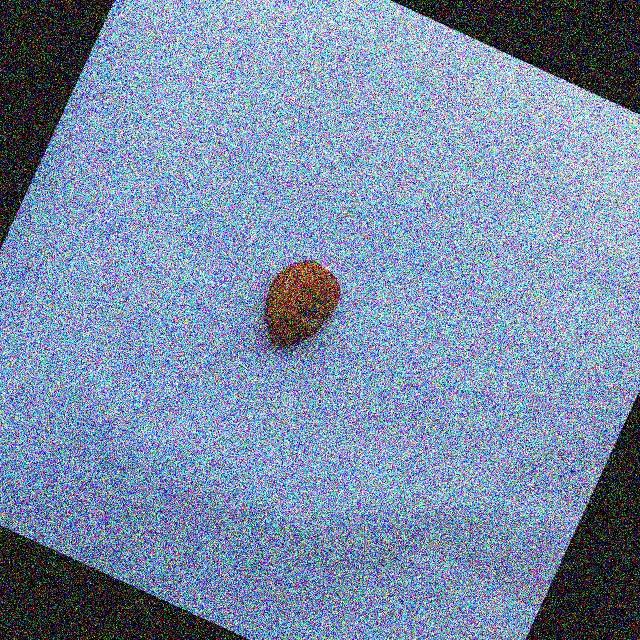grade3: (247, 244, 356, 365)
